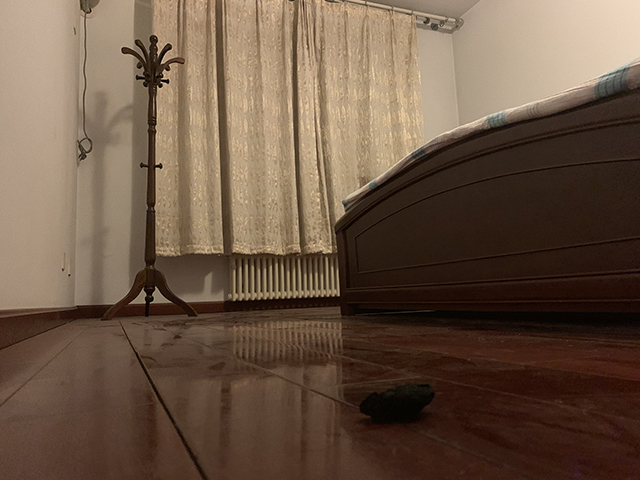bed: (333, 56, 640, 319)
curtain: (150, 1, 342, 258)
feces: (360, 381, 438, 421)
